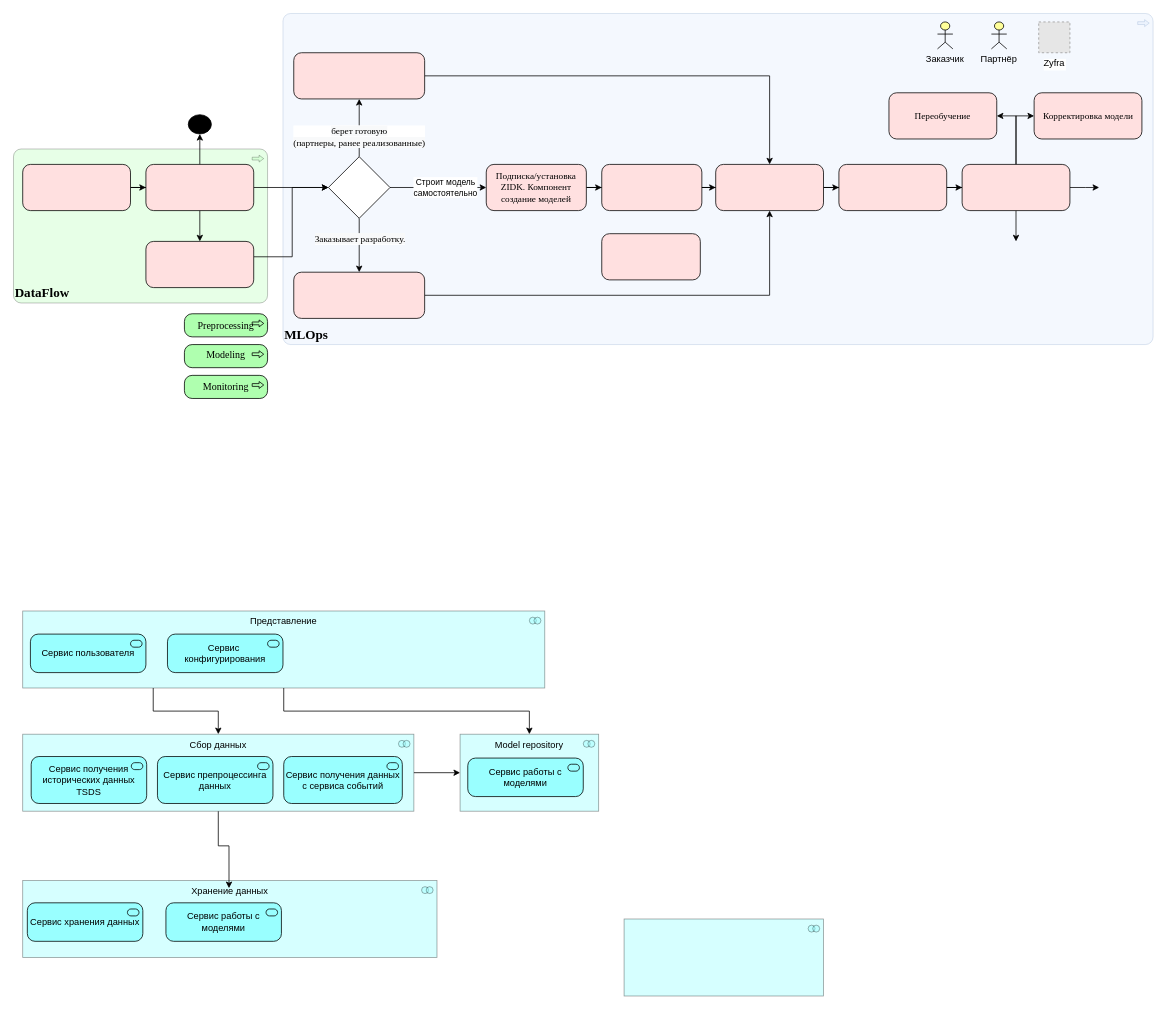
This 1167x1009 diagram has some shape labels left out. Grey dashed boxes stand in for pictures. The centre of each missing label's shape, as x and y in pixels:
"Адаптация" belongs at [359,75].
"Заведение потоков данных заказчика для анализа в ZIIOT" belongs at [199,264].
"Заказчик на базе своих данных ищет в них закономерности, профит" belongs at [199,187].
"Заказчик строит модель самостоятельно (полный цикл)" belongs at [651,187].
"Консалтинг" belongs at [650,256].
"Мониторинг" belongs at [1015,187].
"Объектная модель" belongs at [723,957].
"Подписка/установка ZIDK. Компонент анализ данных" belongs at [76,187].
"Приёмка" belongs at [769,187].
"Продакшн" belongs at [892,187].
"Реализация" belongs at [359,294].
